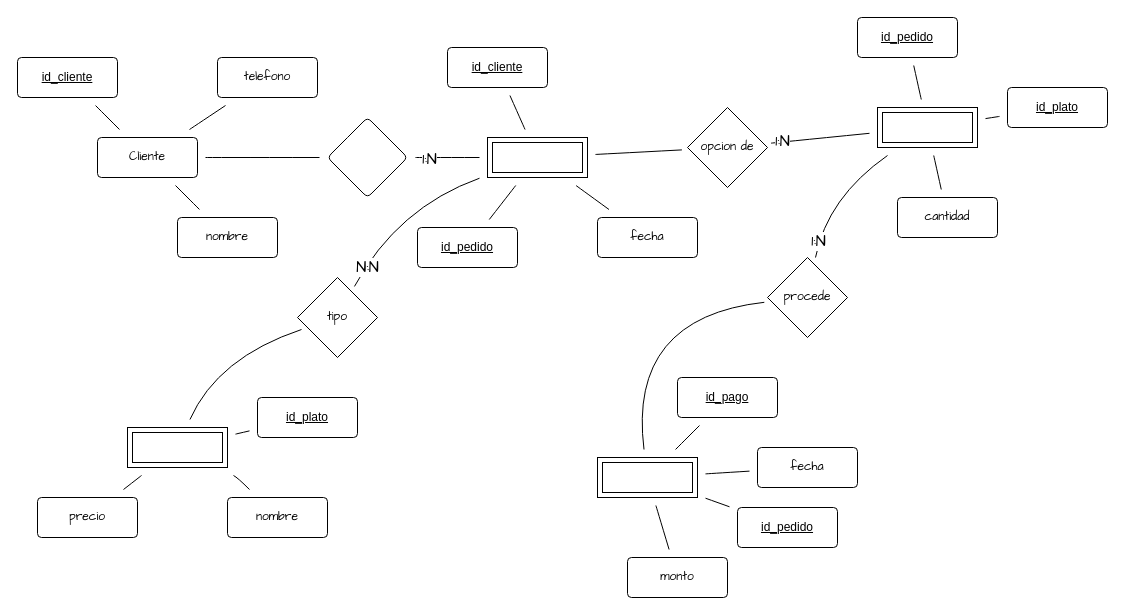
The diagram is 1125 pixels wide and 615 high, and some of its shapes have lost their labels. The box of each missing label's shape, as (x1, y1, x2, y2) in pixels:
Detalle_Pedido: (876, 106, 978, 148)
Pago: (596, 456, 698, 498)
Pedidlo: (486, 136, 588, 178)
Plato: (126, 426, 228, 468)
realiza: (326, 116, 408, 198)
